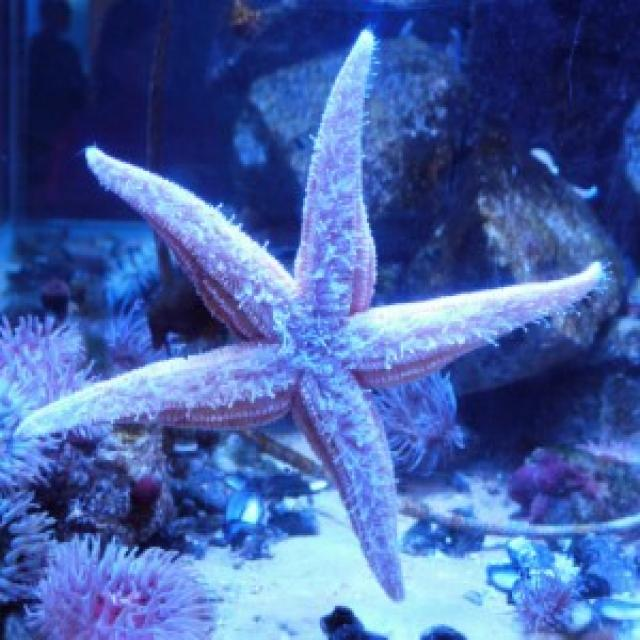Starfish: (1, 20, 626, 619)
